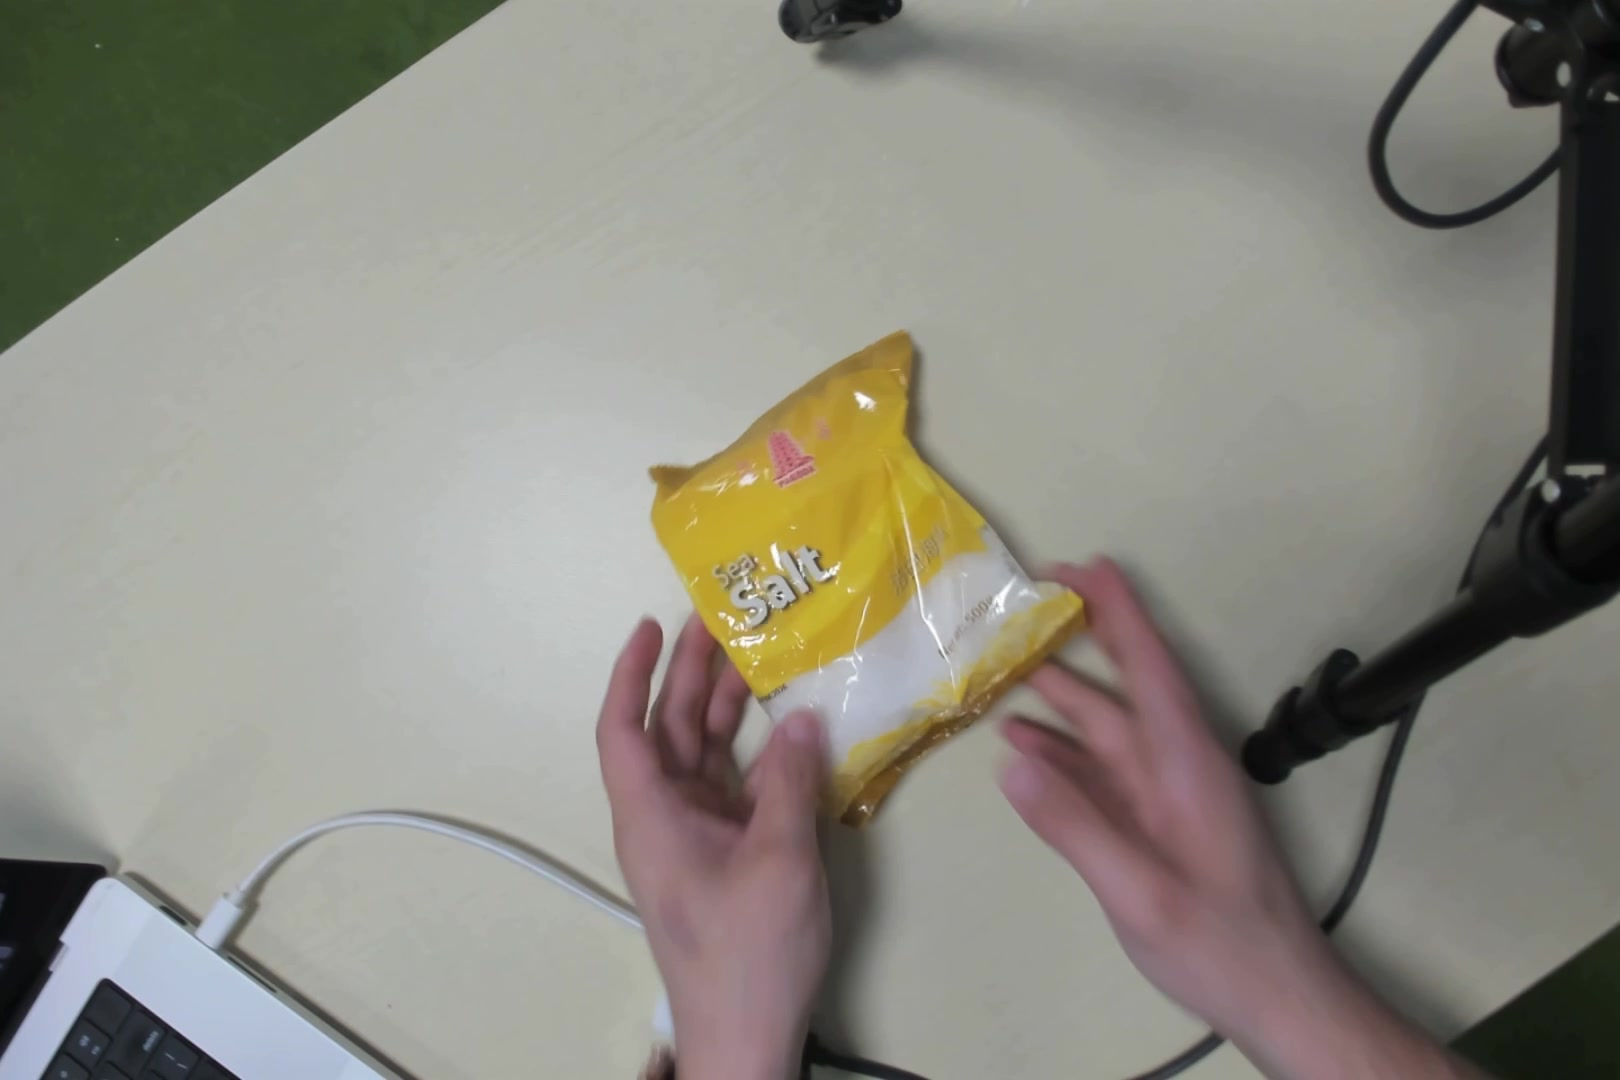Salt_500-599g_Halal_NonHealthy: (688, 378, 1041, 763)
